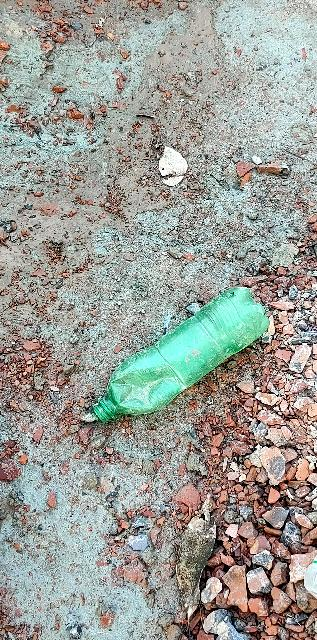bottle: (70, 271, 283, 454)
